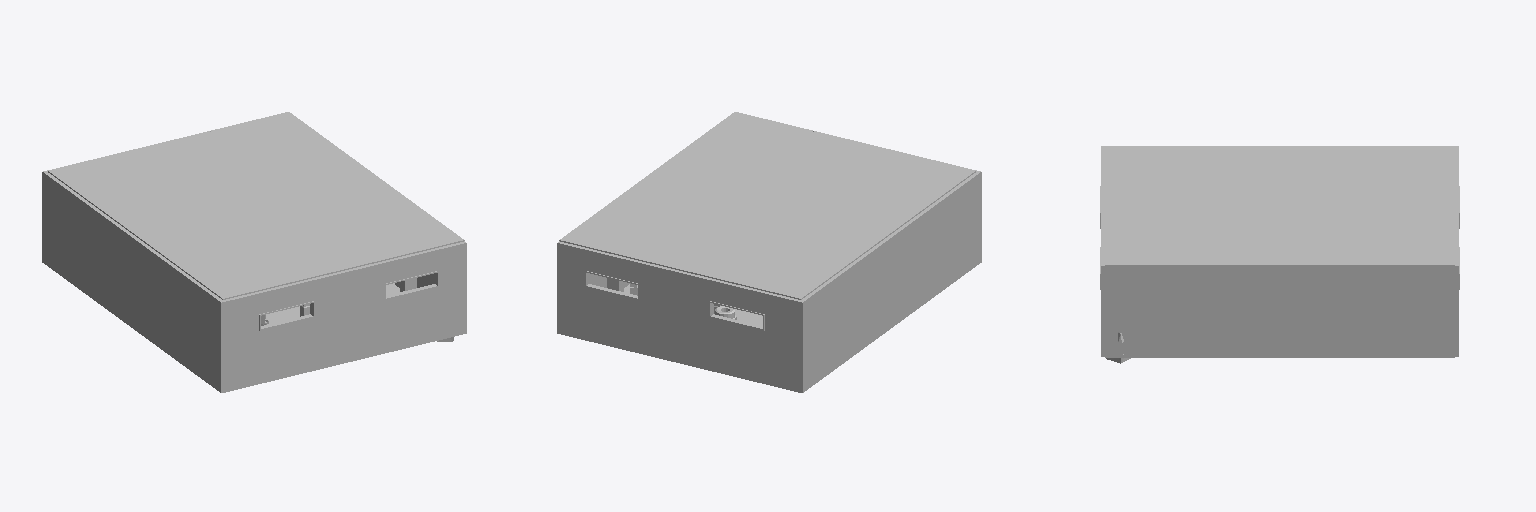
The model's file is garage_new.obj.
3 renders of one model, left to right at view 1: azimuth 30°, elevation 25°; view 2: azimuth 150°, elevation 25°; view 3: azimuth 270°, elevation 25°, orthographic.
Visible parts, largest first — view 1: Floor, Wall, Windows; view 2: Floor, Wall, Windows; view 3: Floor, Wall, Door.
Part boxes in pixels (x1,y1,x2,y2): Floor: (48, 112, 464, 299); Wall: (42, 112, 466, 392); Windows: (259, 271, 438, 330); Floor: (559, 112, 975, 299); Wall: (557, 112, 981, 392); Windows: (585, 271, 764, 330); Floor: (1105, 147, 1454, 265); Wall: (1101, 146, 1458, 356); Door: (1236, 302, 1318, 356).
Size of the model in its own units: 370 by 143 by 464.